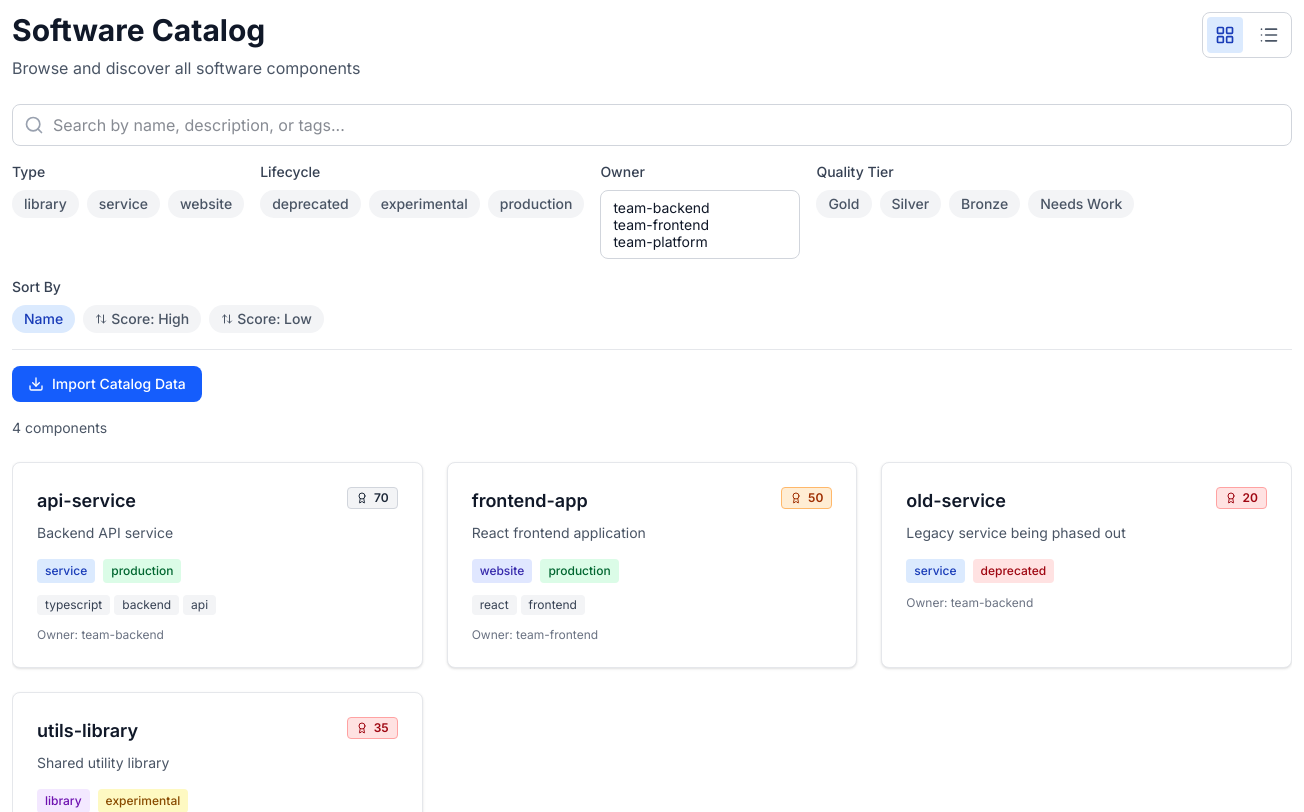
Test: CatalogPage › Type Filtering › supports multiple type selections
Click the button "service": (123, 204) x1=87 y1=190 x2=160 y2=218
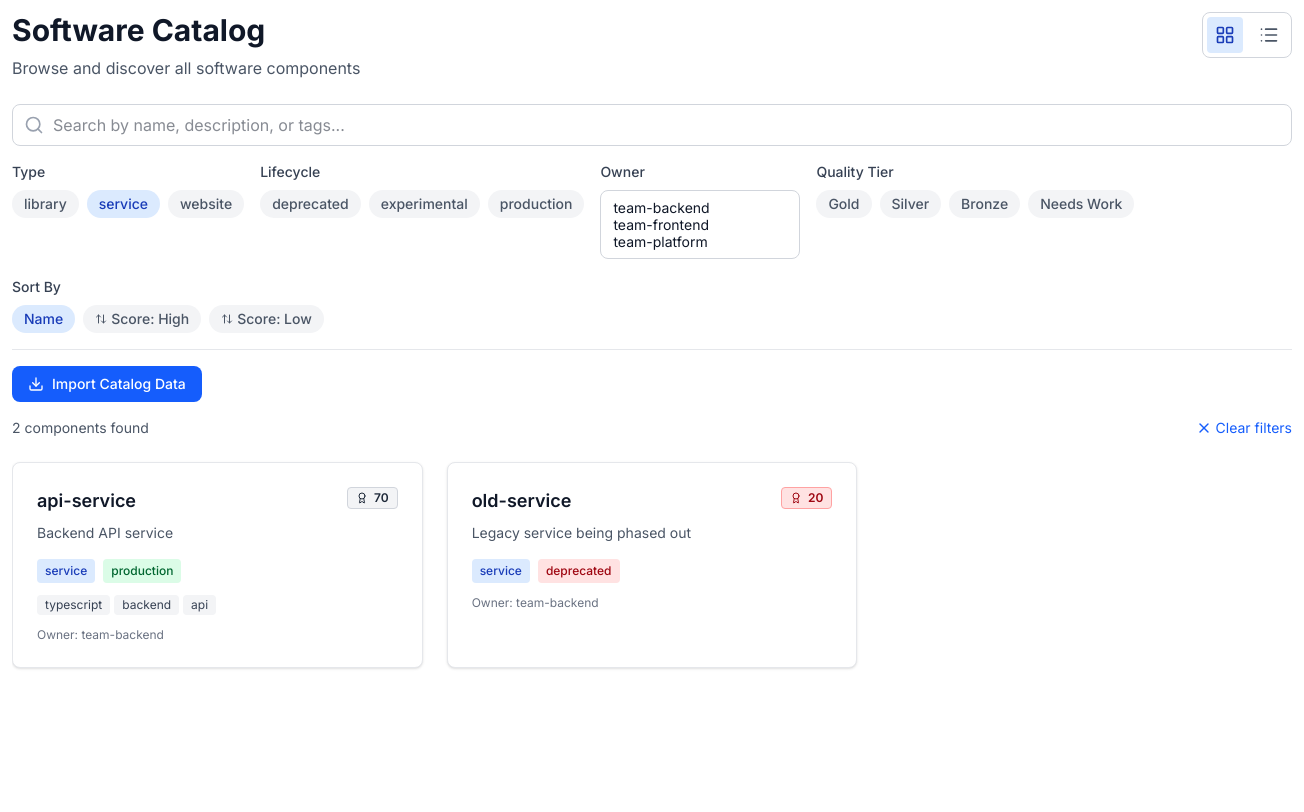
Click the button "library": (45, 204) x1=12 y1=190 x2=79 y2=218
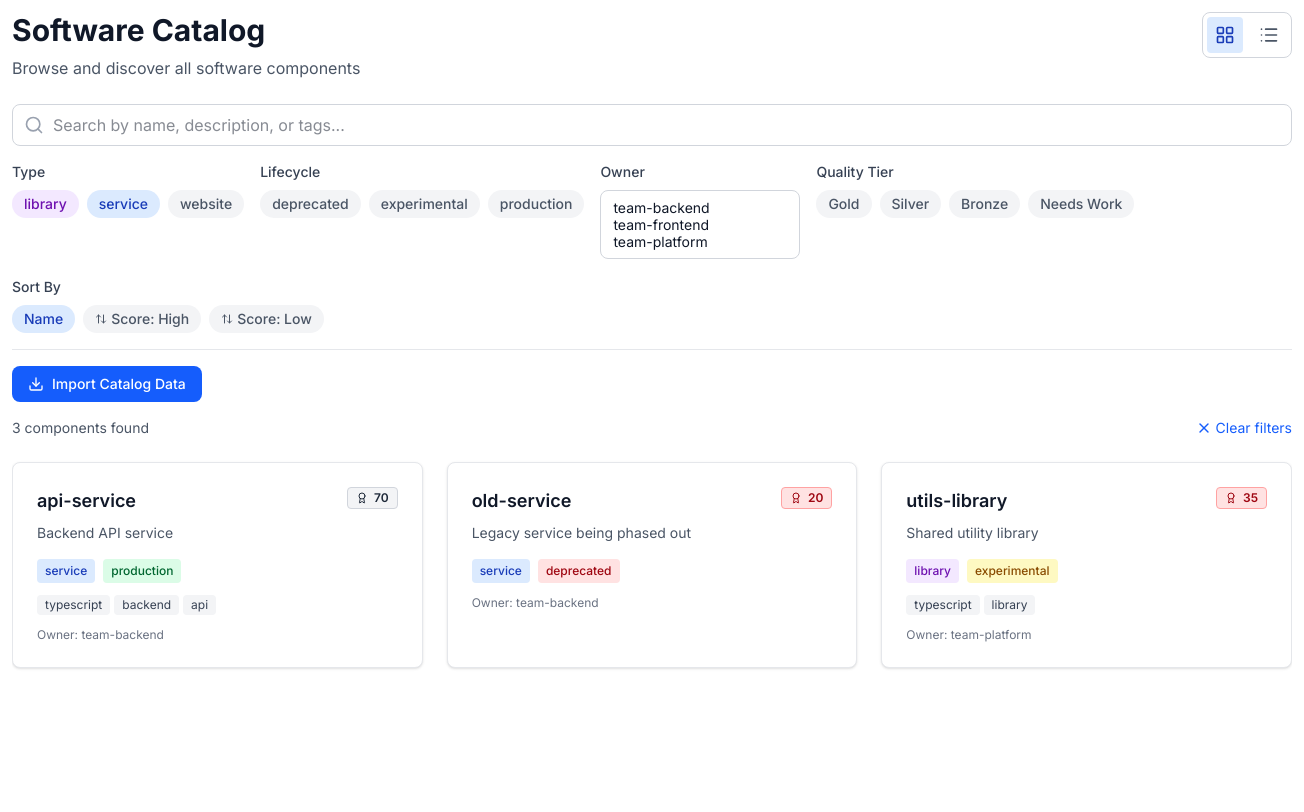
Expected: the heading "api-service" is shown, x1=37 y1=487 x2=136 y2=515
Result: the heading "utils-library" is shown at x1=906 y1=487 x2=1007 y2=515
